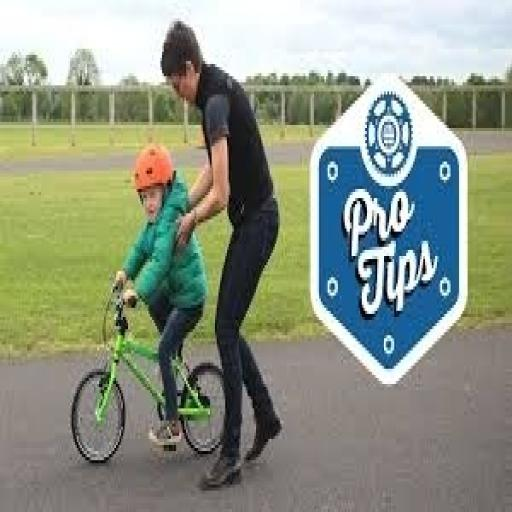cycling: (157, 18, 285, 494), (111, 140, 210, 451)
